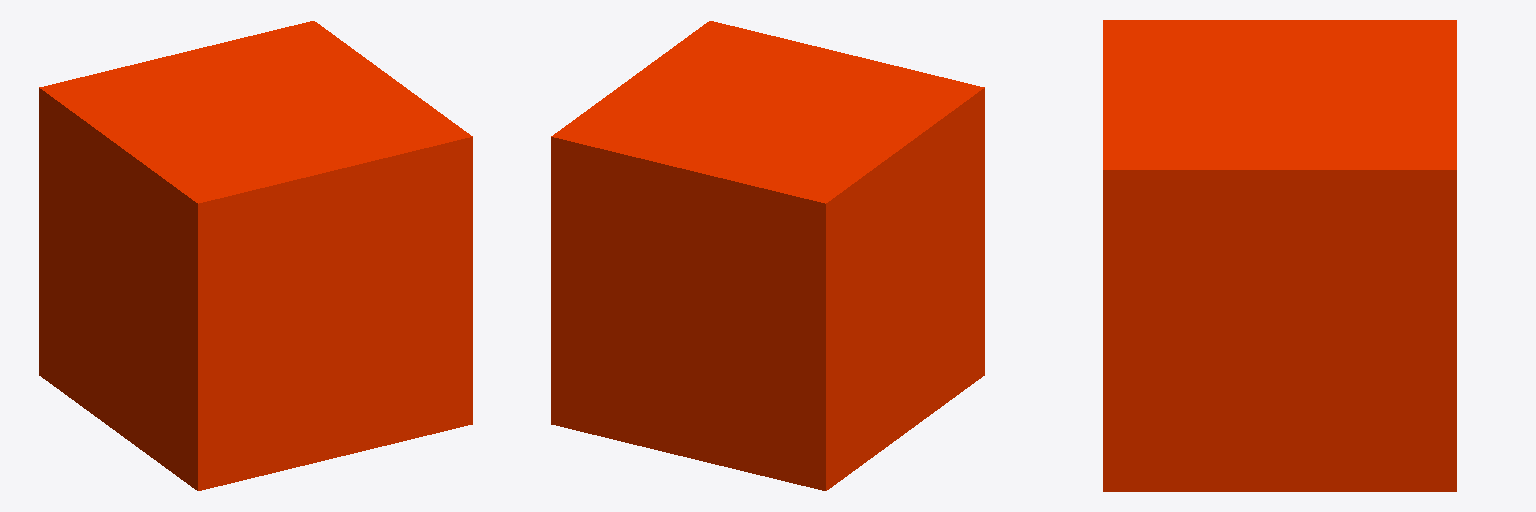
URDF robot description (ik_cube_orange):
<?xml version="0.0"?>
<robot name="ik_cube_orange">
  <link name="base">
    <visual>
      <origin rpy="0 0 0" xyz="0 0 0.0005"/>
      <!--origin rpy="0 0 0" xyz="0 0 0.0025"/-->
      <material name="orange">
        <color rgba="1 0.27 0 0.2"/>
      </material>
      <geometry>
        <box size="0.1 0.1 0.1" />
        <!--box size="0.2 0.2 0.005" /-->
      </geometry>
    </visual>
  </link>
</robot>

--- Facts derived from the render (not from the file) ---
Views: 3 orthographic renders of the robot side by side, from view 1: azimuth 30°, elevation 25°; view 2: azimuth 150°, elevation 25°; view 3: azimuth 270°, elevation 25°.
Model ik_cube_orange with 1 links and 0 joints (none), rooted at base, posed all joints at 0.
Visible links, largest first — view 1: base; view 2: base; view 3: base.
Link boxes in pixels (left/top/right/bottom): base: left=39, top=21, right=472, bottom=490; base: left=551, top=21, right=984, bottom=490; base: left=1103, top=20, right=1456, bottom=491.
Size in the robot's own frame: 0.1 by 0.1 by 0.1 metres.
Geometry: primitives only (box / cylinder / sphere), no mesh files.